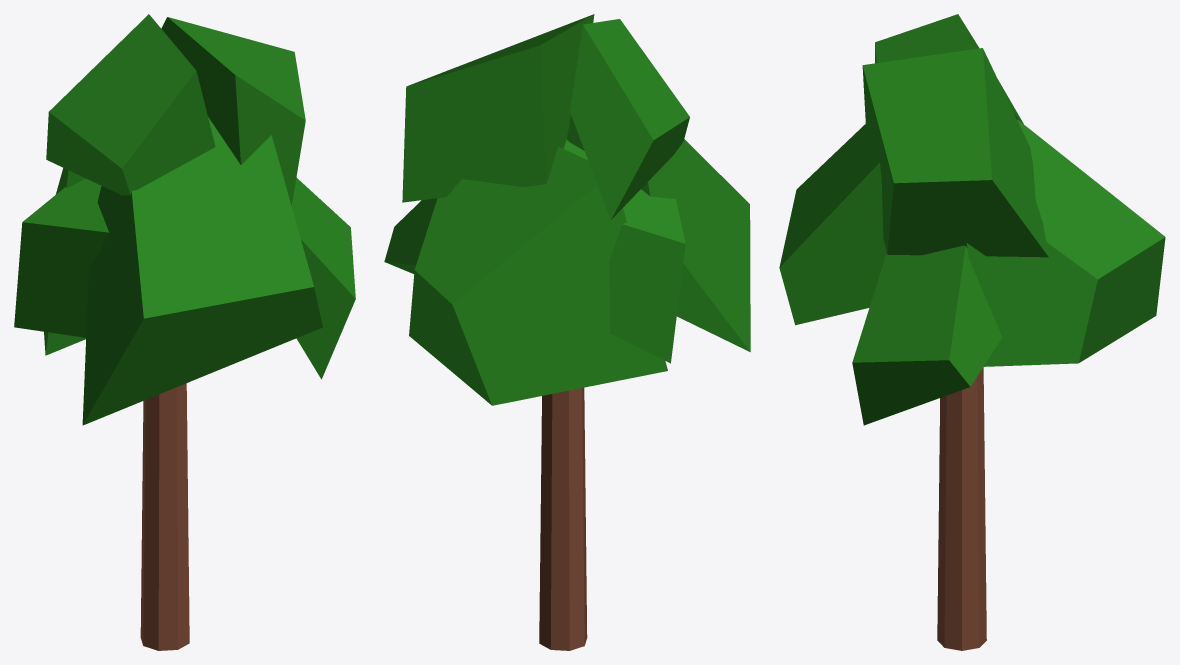
The model's file is Tree_41_summer_mat.fbx.
The picture shows the model from 3 angles, left to right: view 1: azimuth 30°, elevation 25°; view 2: azimuth 150°, elevation 25°; view 3: azimuth 270°, elevation 25°; orthographic projection. The views are drawn at different scales.
Parts seen in each view (by area): view 1: Tree_41_summer_mat; view 2: Tree_41_summer_mat; view 3: Tree_41_summer_mat.
Part boxes in pixels (x1,y1,x2,y2): Tree_41_summer_mat: (14,14,355,650); Tree_41_summer_mat: (384,14,750,650); Tree_41_summer_mat: (779,14,1165,650).
Size of the model in its own units: 120 by 229 by 130.
